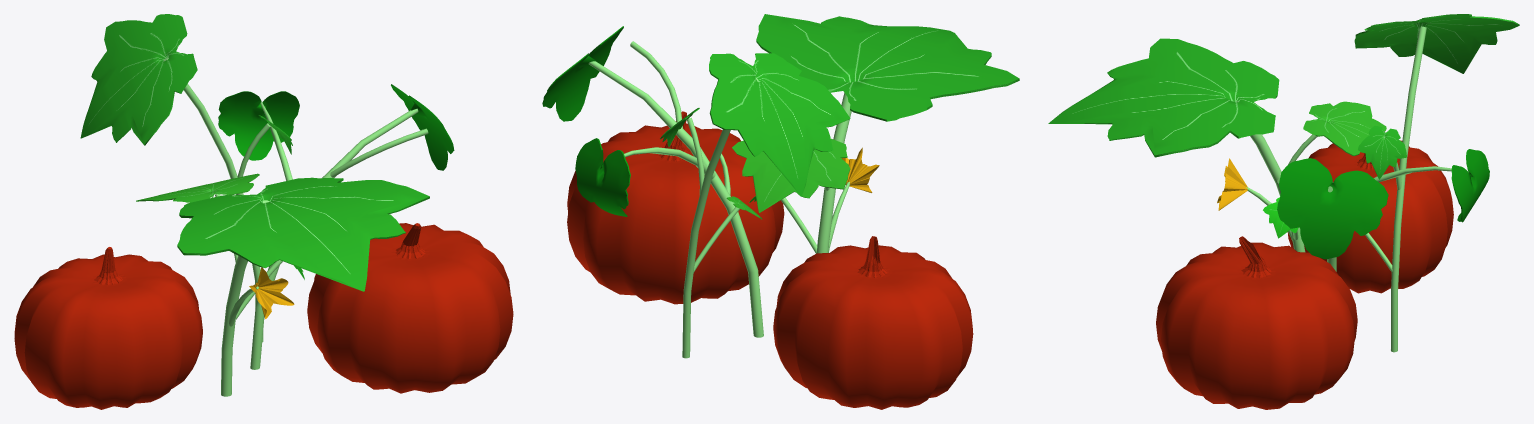
Rendered from 南瓜成熟.FBX.
3 renders of one model, left to right at view 1: azimuth 30°, elevation 25°; view 2: azimuth 150°, elevation 25°; view 3: azimuth 270°, elevation 25°, orthographic. The views are drawn at different scales.
Visible parts, largest first — view 1: Sphere002, Sphere001, Box001, Box004, Box008, Box007, Cylinder001, Cylinder008, Box002, Line001, Cylinder004, Cylinder011 (+1 smaller); view 2: Sphere001, Sphere002, Box001, Box004, Box002, Box008, Cylinder008, Box007, Cylinder004, Cylinder001, Line001, Cylinder011 (+1 smaller); view 3: Sphere002, Box001, Sphere001, Box007, Box004, Box002, Cylinder004, Box008, Box005, Cylinder001, Line001, Box003.
Boxes of the visible parts, left/top/right/bottom form: Sphere002: left=307, top=223, right=513, bottom=393; Sphere001: left=14, top=247, right=202, bottom=409; Box001: left=177, top=177, right=429, bottom=291; Box004: left=80, top=14, right=197, bottom=145; Box008: left=218, top=91, right=299, bottom=160; Box007: left=391, top=84, right=454, bottom=170; Cylinder001: left=221, top=200, right=269, bottom=396; Cylinder008: left=250, top=108, right=418, bottom=369; Box002: left=136, top=173, right=259, bottom=202; Line001: left=249, top=267, right=294, bottom=318; Cylinder004: left=163, top=58, right=263, bottom=341; Cylinder011: left=330, top=128, right=428, bottom=177; Sphere001: left=773, top=236, right=973, bottom=409; Sphere002: left=567, top=111, right=784, bottom=304; Box001: left=756, top=14, right=1019, bottom=121; Box004: left=709, top=53, right=850, bottom=196; Box002: left=732, top=138, right=850, bottom=212; Box008: left=575, top=138, right=630, bottom=216; Cylinder008: left=588, top=61, right=763, bottom=337; Box007: left=542, top=26, right=623, bottom=121; Cylinder004: left=682, top=78, right=758, bottom=358; Cylinder001: left=817, top=93, right=851, bottom=253; Line001: left=841, top=147, right=879, bottom=192; Cylinder011: left=630, top=41, right=682, bottom=128; Sphere002: left=1156, top=236, right=1357, bottom=409; Box001: left=1048, top=38, right=1279, bottom=157; Sphere001: left=1287, top=140, right=1453, bottom=293; Box007: left=1277, top=158, right=1388, bottom=259; Box004: left=1354, top=14, right=1519, bottom=73; Box002: left=1303, top=101, right=1386, bottom=156; Cylinder004: left=1391, top=26, right=1426, bottom=352; Box008: left=1451, top=149, right=1489, bottom=222; Box005: left=1358, top=125, right=1406, bottom=179; Cylinder001: left=1236, top=101, right=1305, bottom=252; Line001: left=1217, top=158, right=1247, bottom=210; Box003: left=1263, top=197, right=1299, bottom=238.
Size of the model in its own units: 63.87 by 46.44 by 63.6.
7 materials, 4 textured.
